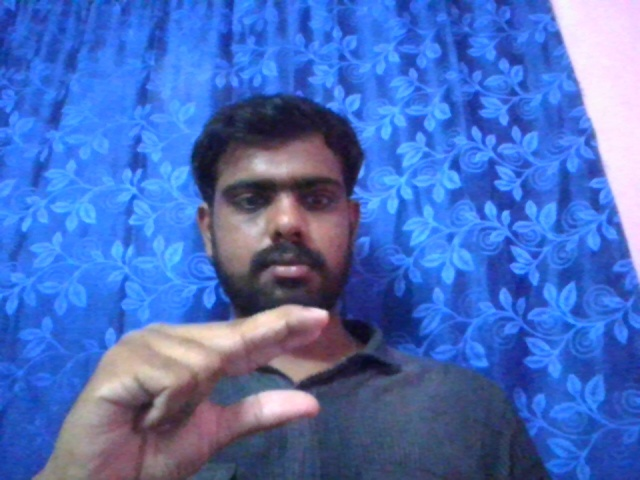No: (52, 282, 333, 474)
